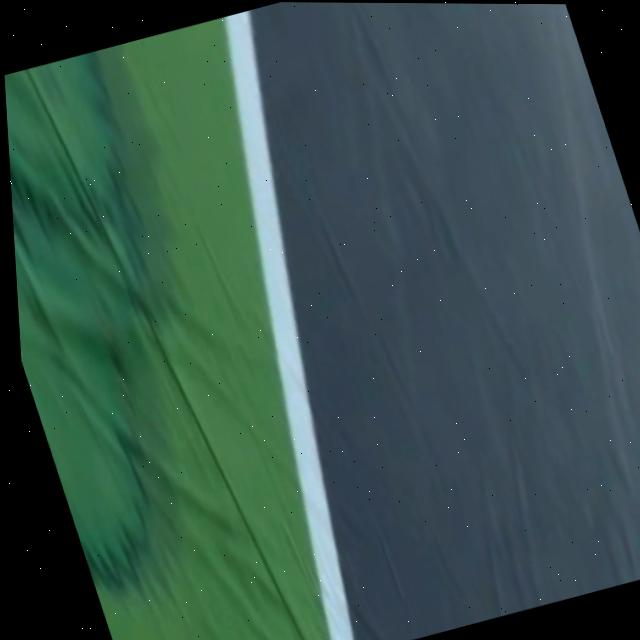right: (224, 9, 355, 640)
